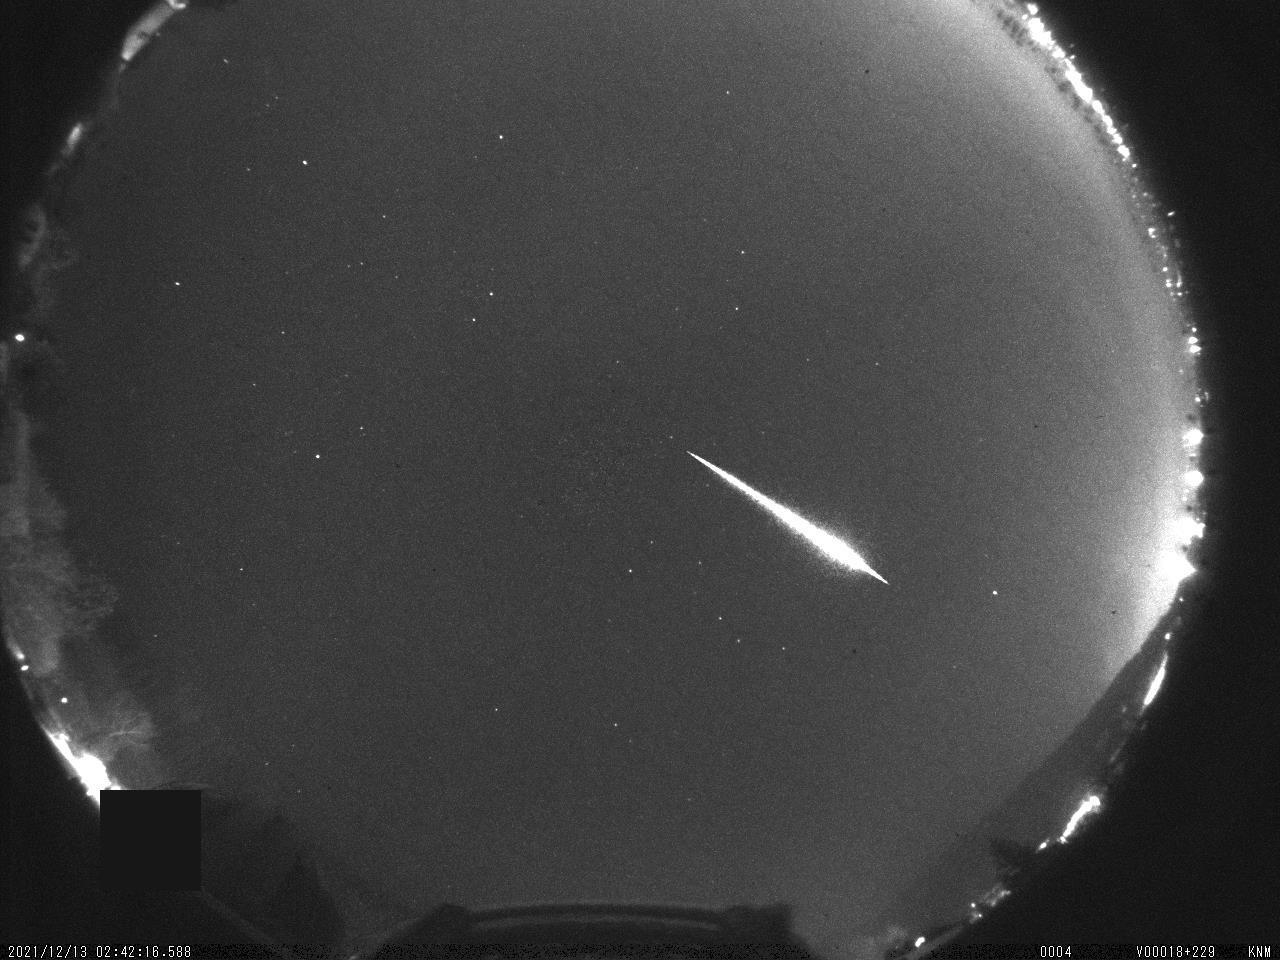Meteor: (683, 447, 889, 586)
